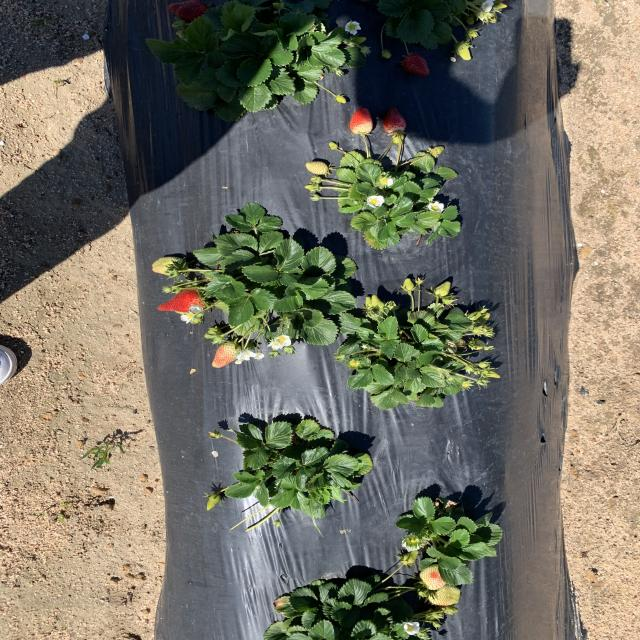unripe: (156, 287, 212, 313), (165, 0, 213, 20), (382, 106, 408, 136), (402, 52, 431, 76), (350, 107, 373, 134)
